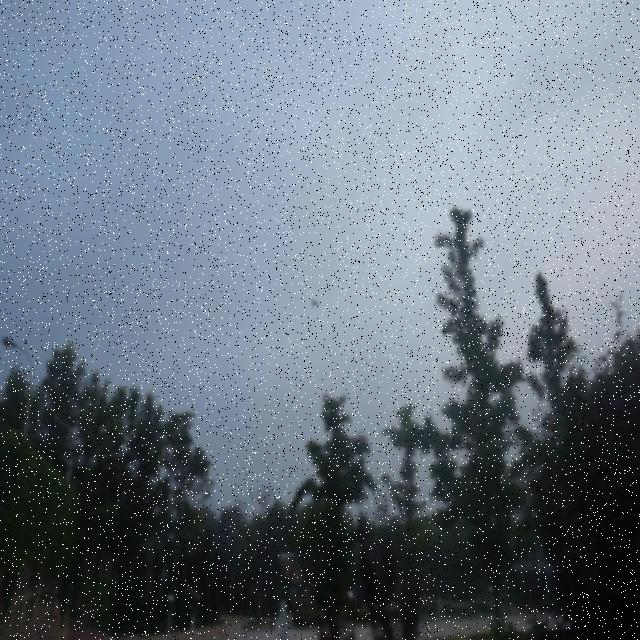UAV: (310, 299, 320, 308)
